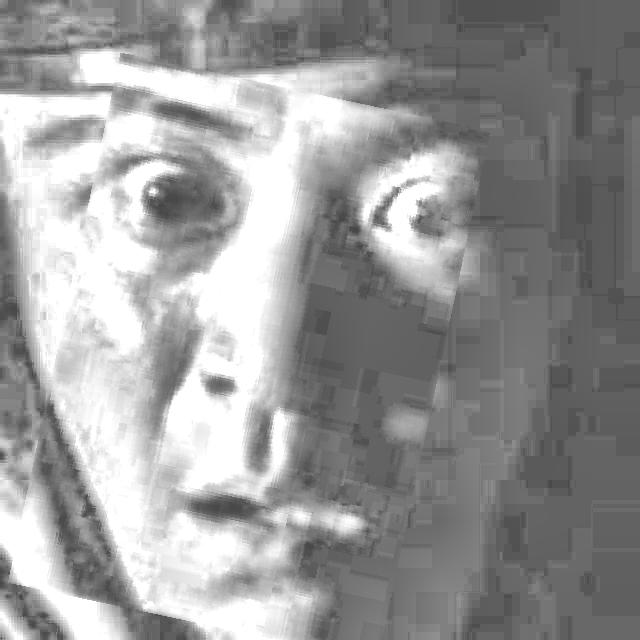fear: (33, 69, 464, 640)
